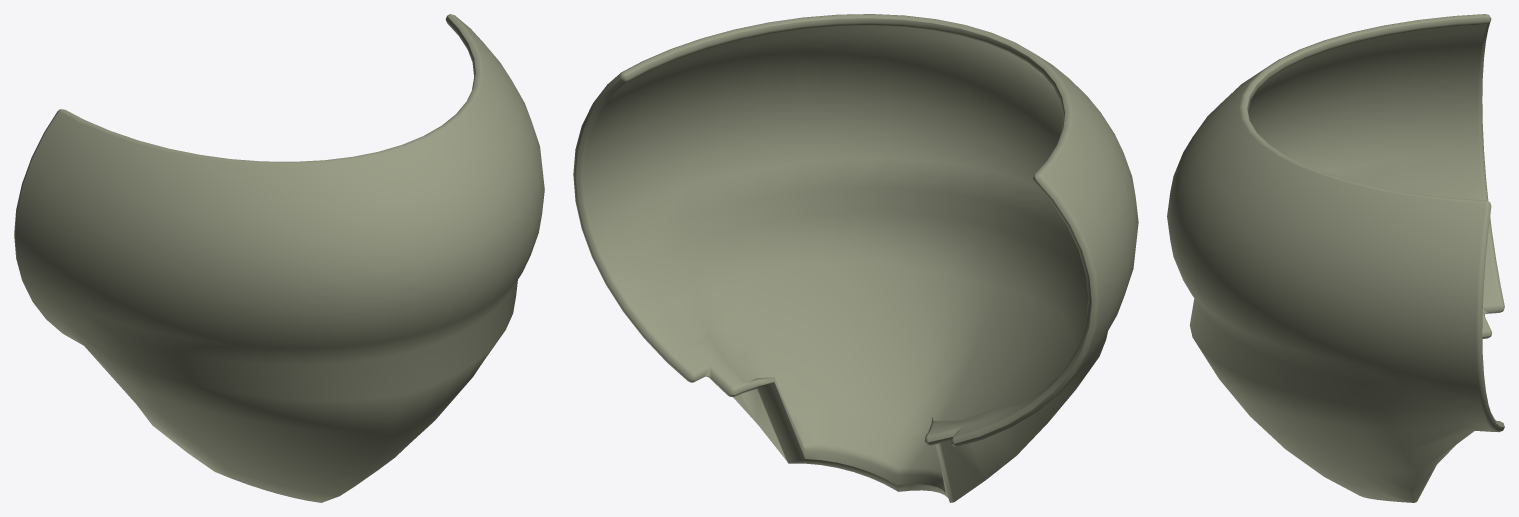
The model's file is mask_bandana_CT.glb.
3 views of the same model, side by side, from view 1: azimuth 30°, elevation 25°; view 2: azimuth 150°, elevation 25°; view 3: azimuth 270°, elevation 25° (orthographic). The views are drawn at different scales.
Parts seen in each view (by area): view 1: mask@Head; view 2: mask@Head; view 3: mask@Head.
Part boxes in pixels (left/top/right/bottom): mask@Head: left=14, top=14, right=544, bottom=502; mask@Head: left=573, top=14, right=1138, bottom=502; mask@Head: left=1167, top=14, right=1504, bottom=502.
Bounding box in the file's own units: 0.2016 × 0.1542 × 0.1218.
